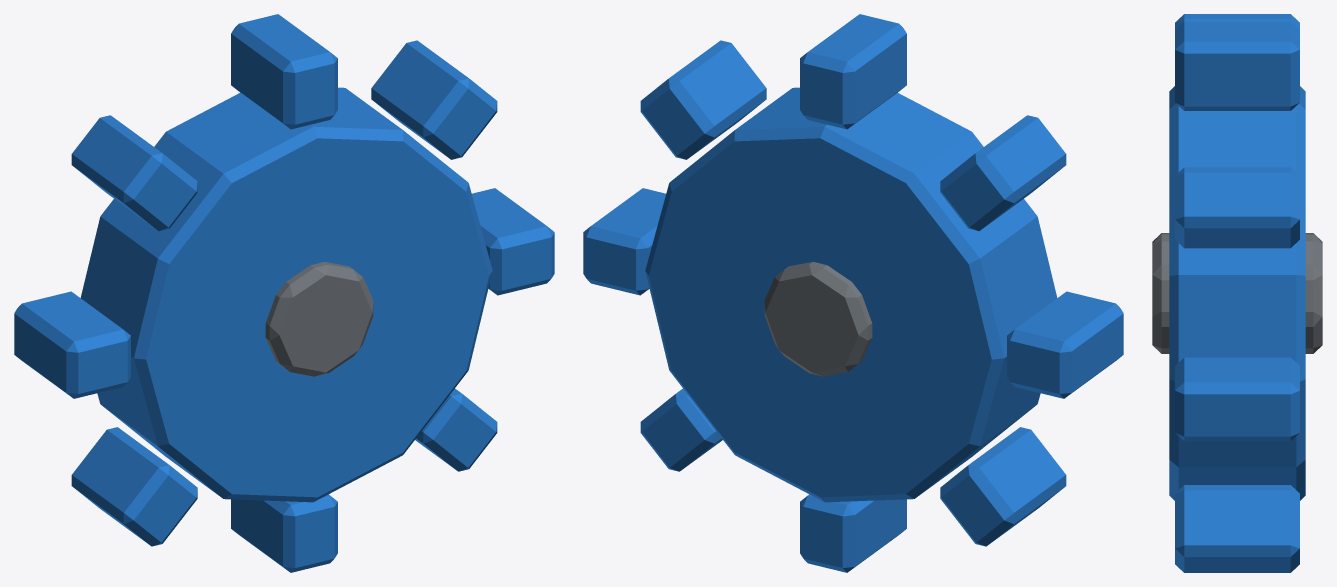
The model's file is gear_small.glb.
3 views of the same model, side by side, from view 1: azimuth 30°, elevation 25°; view 2: azimuth 150°, elevation 25°; view 3: azimuth 270°, elevation 25° (orthographic). The views are drawn at different scales.
Parts seen in each view (by area): view 1: gear_small; view 2: gear_small; view 3: gear_small.
Boxes of the visible parts, <box> form: gear_small: <box>14,14,554,572</box>; gear_small: <box>583,14,1123,572</box>; gear_small: <box>1152,14,1322,572</box>.
Size of the model in its own units: 0.2548 by 0.2548 by 0.075.
